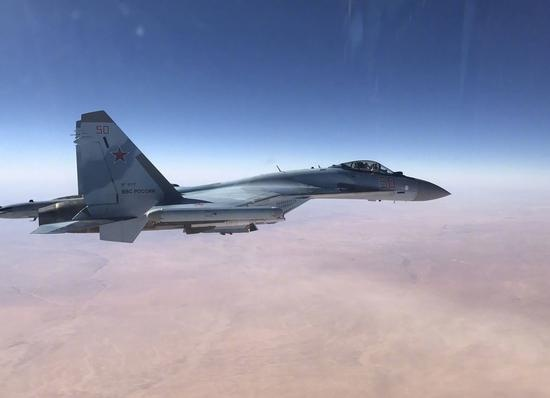airplane: (1, 108, 453, 241)
